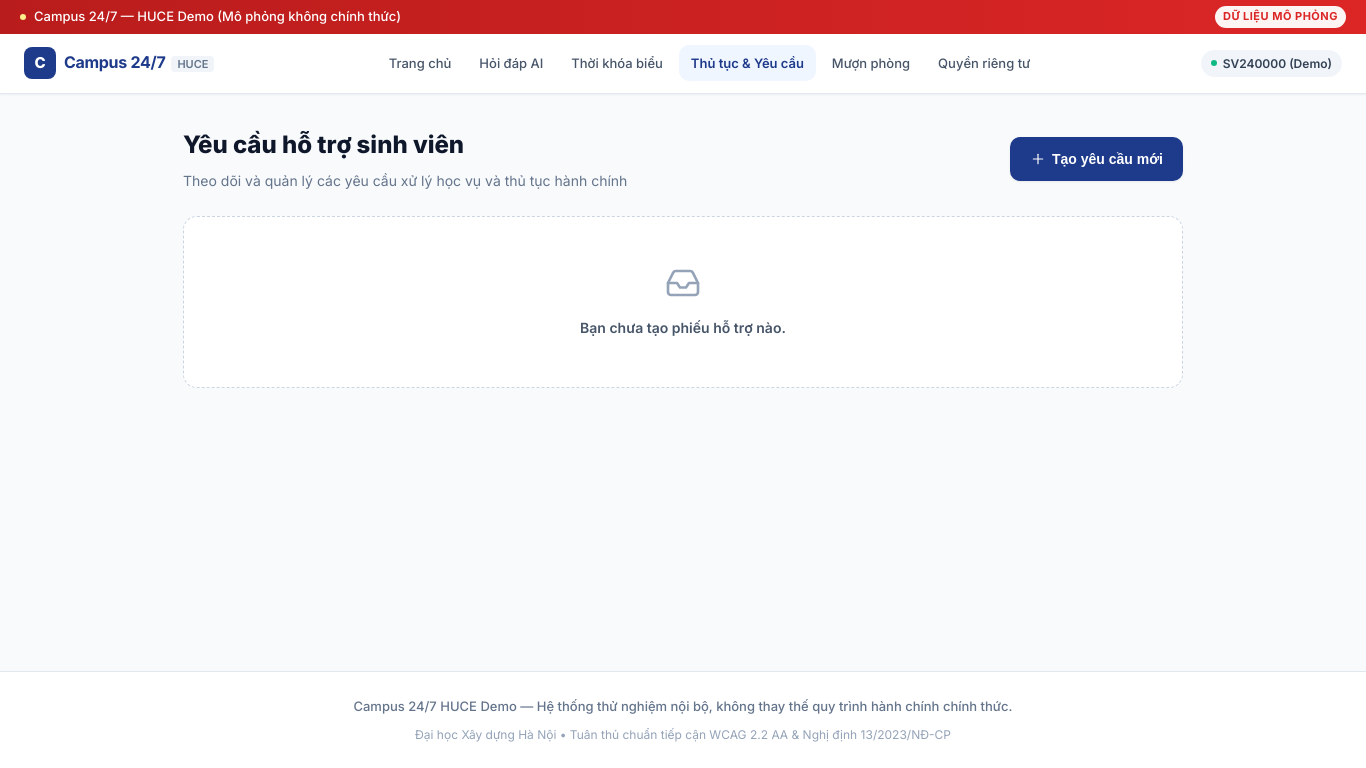
Test: TicketsPage Component - Fail Honestly (TASK-WEB-TICK-003) › distinguishes failed-with-no-effect from result-unknown on network timeout
Click the button "Tạo yêu cầu mới" at (1096, 159), box x1=1010 y1=137 x2=1183 y2=181
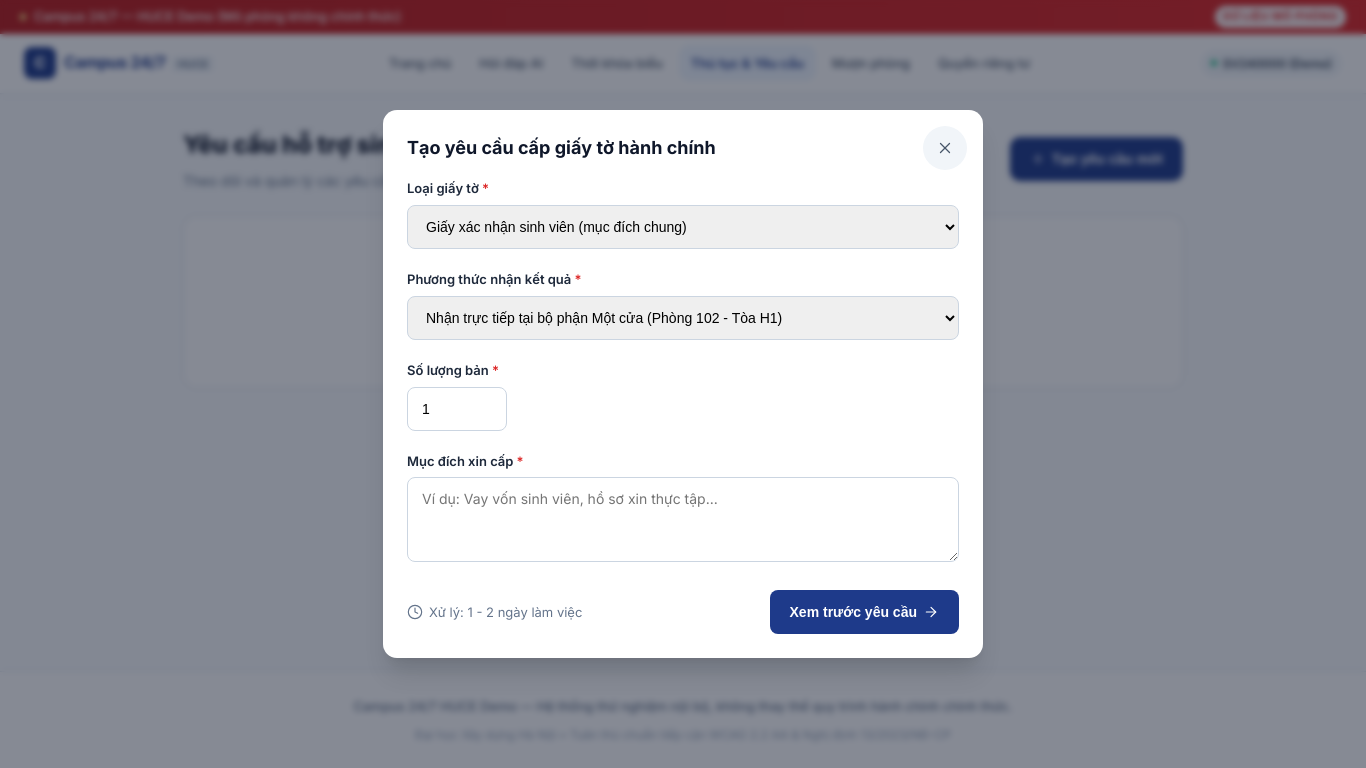
Type "Bổ sung hồ sơ tuyển dụng" into the text box labelled "Mục đích xin cấp *" at (683, 520), box x1=407 y1=478 x2=959 y2=562
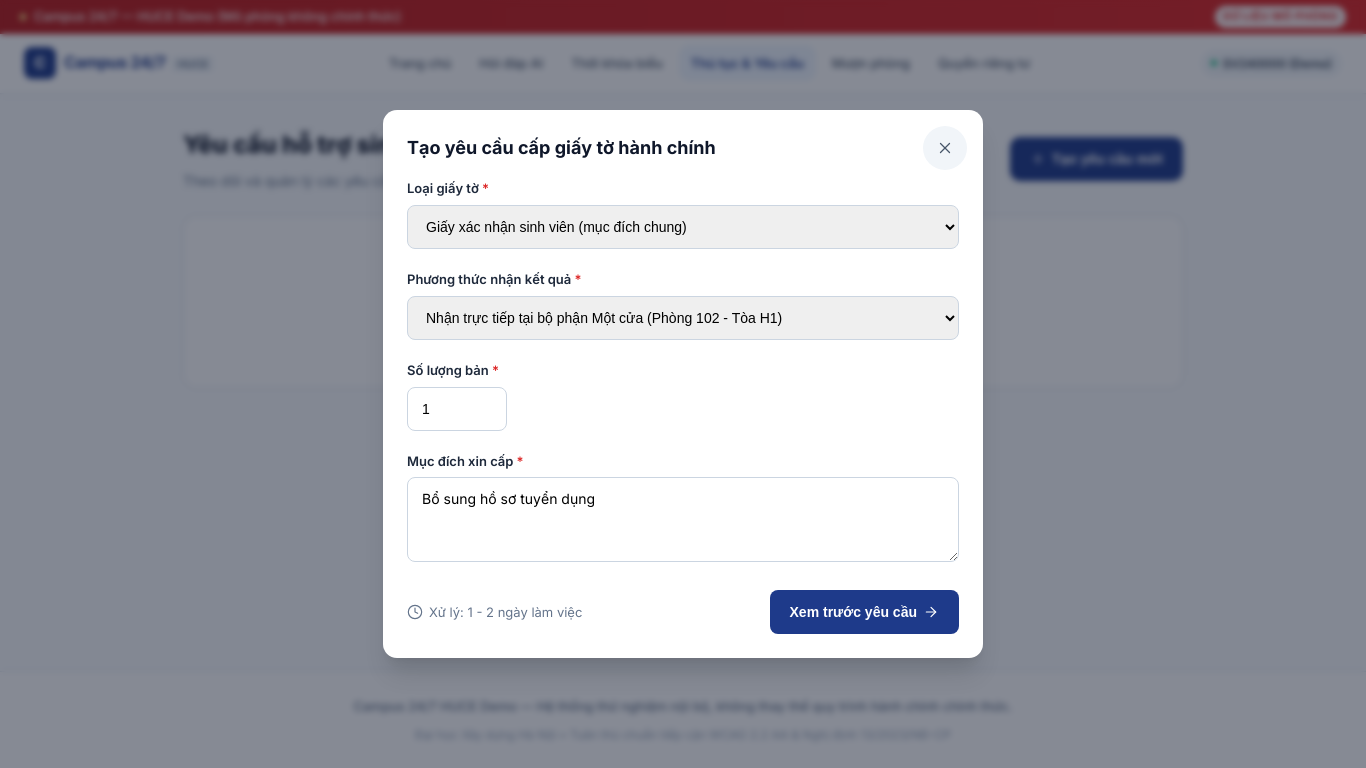
Click the button "Xem trước yêu cầu" at (864, 612), box x1=770 y1=590 x2=959 y2=634
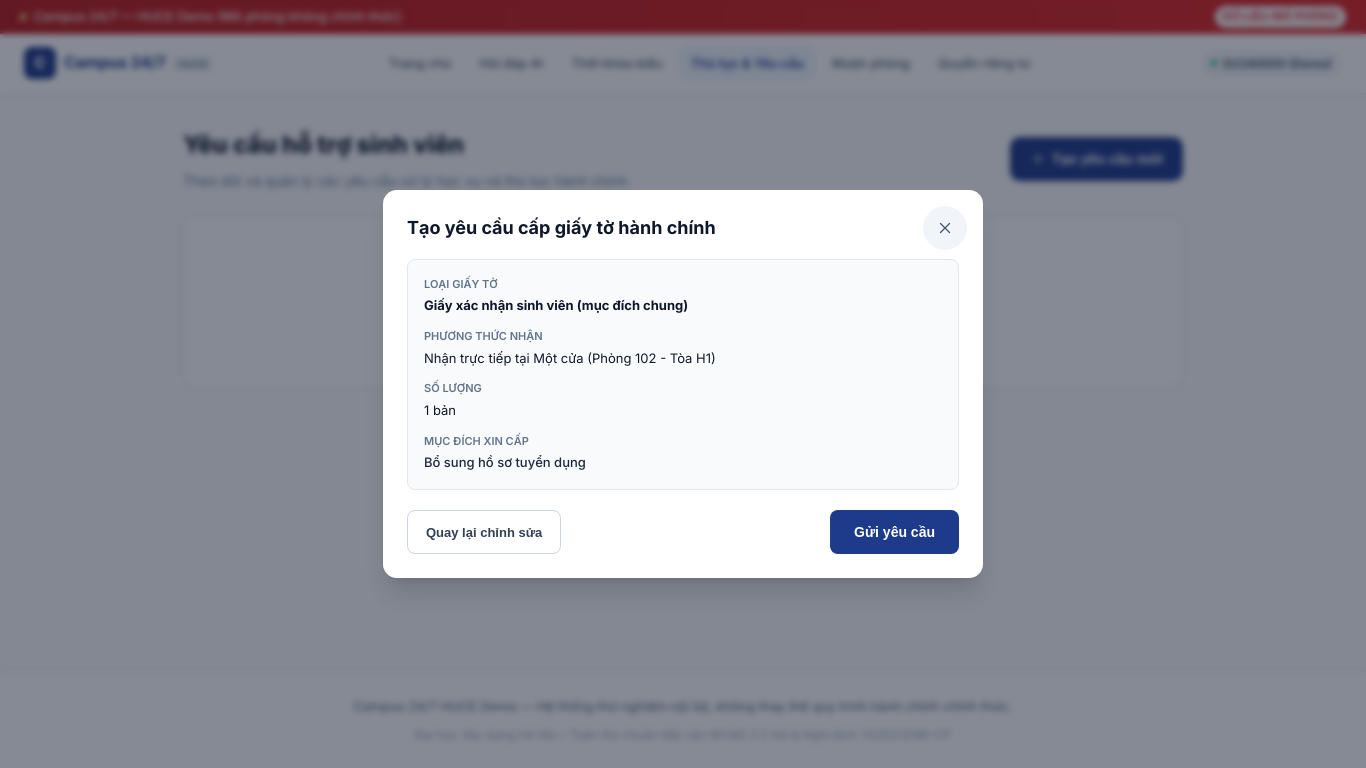
Click the button "Gửi yêu cầu" at (894, 532), box x1=830 y1=510 x2=959 y2=554
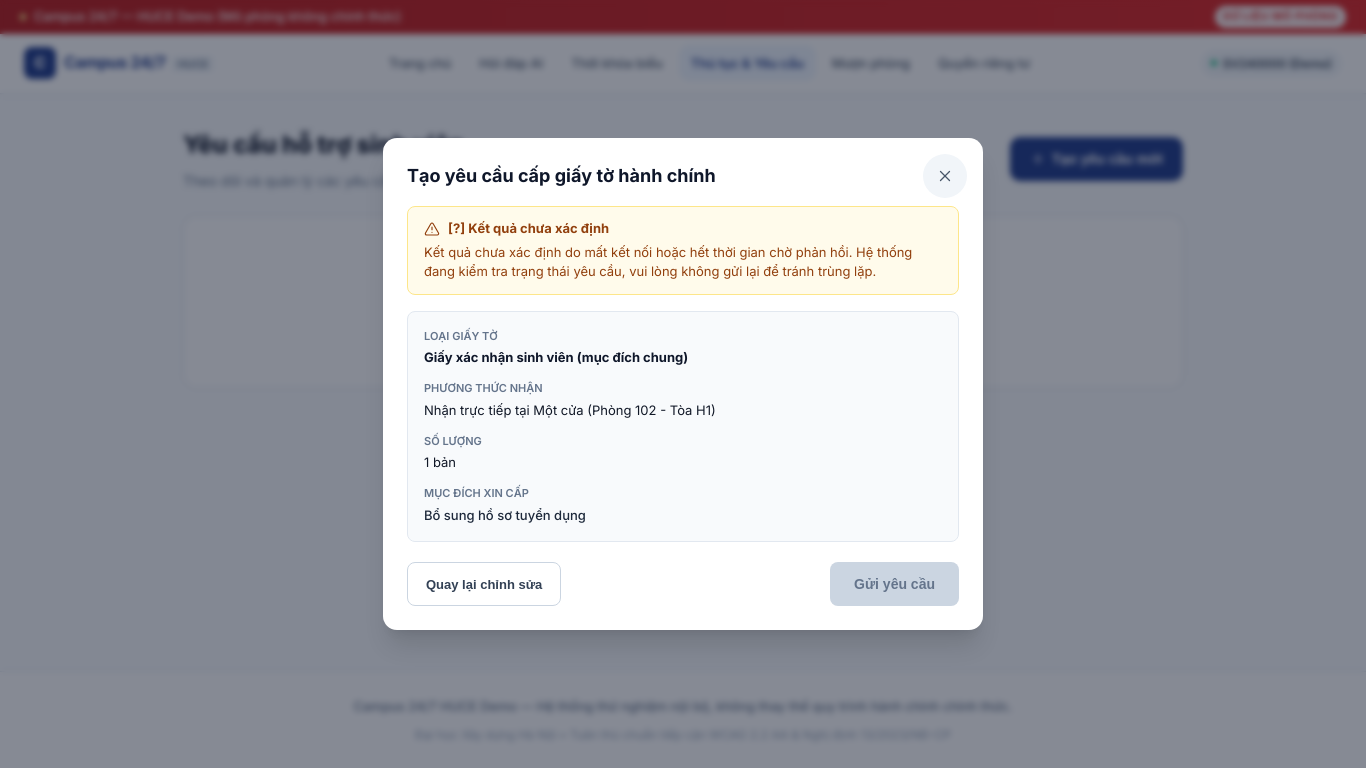
Expected: the text "không gửi lại để tránh trùng lặp" is shown, x1=424 y1=244 x2=912 y2=279
Expected: the button "Gửi yêu cầu" is disabled, x1=830 y1=562 x2=959 y2=606
